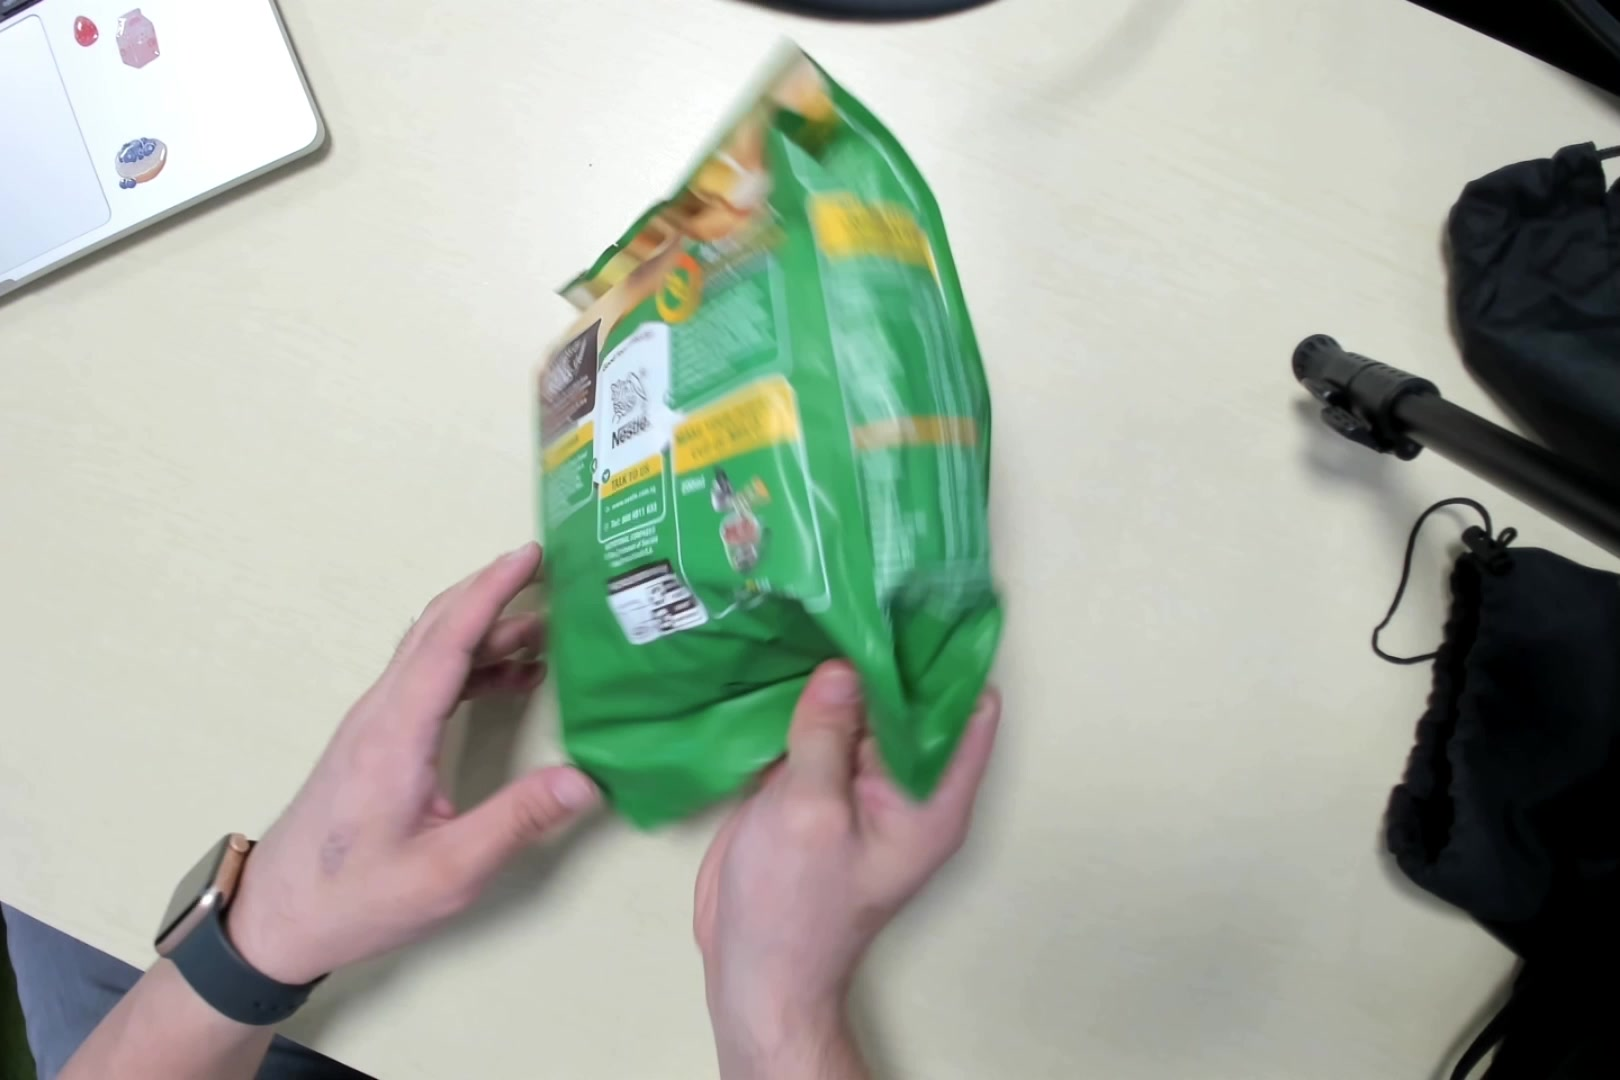ChocolateMaltPowder_300-399g_NonHalal_NonHealthy: (538, 66, 990, 792)
